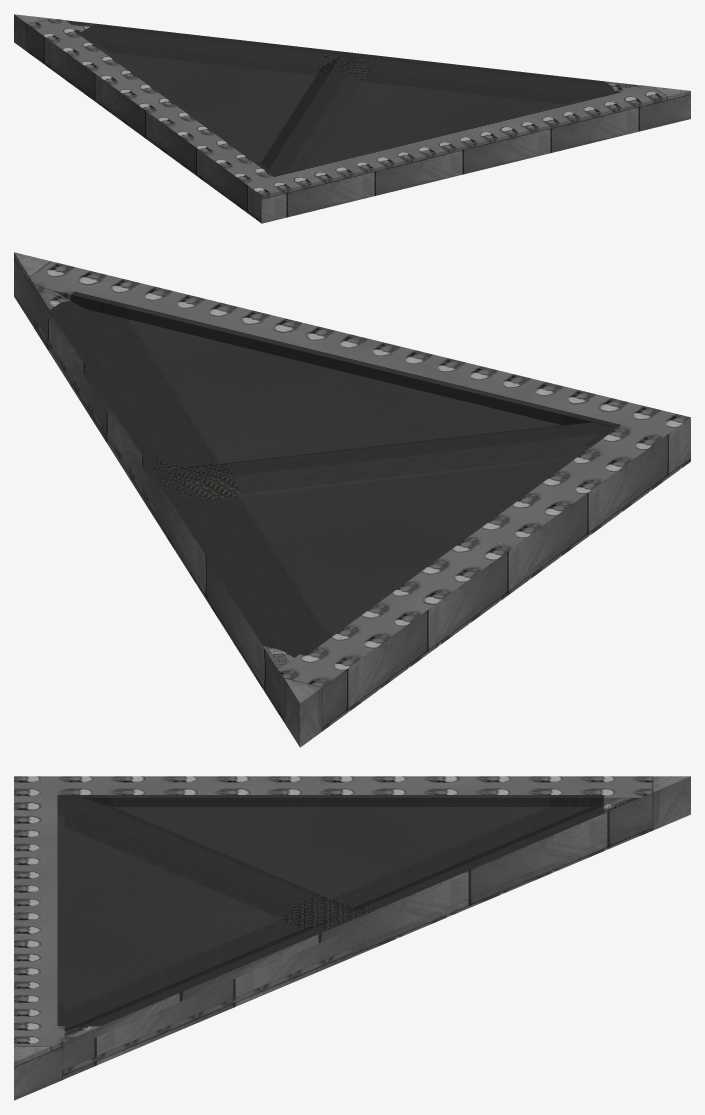
The model's file is UMOD_Prop-Triangle-1x1_.fbx.
3 renders of one model, top to bottom at view 1: azimuth 30°, elevation 25°; view 2: azimuth 150°, elevation 25°; view 3: azimuth 270°, elevation 25°, orthographic. The views are drawn at different scales.
Visible parts, largest first — view 1: pCube8; view 2: pCube8; view 3: pCube8.
Boxes of the visible parts, x1,y1,x2,y2 form: pCube8: [14, 14, 690, 223]; pCube8: [14, 252, 690, 747]; pCube8: [14, 776, 690, 1100].
Bounding box in the file's own units: 8 × 0.5 × 8.
Materials: 1 (1 with a texture image).
